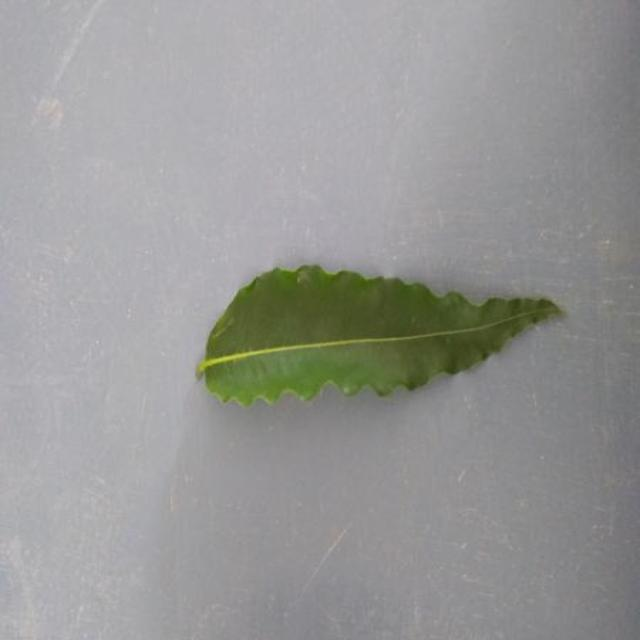ashoka: (197, 265, 562, 404)
